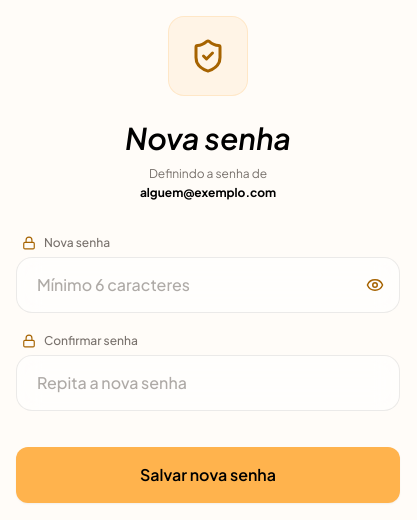
Test: AuthAction › conclui a redefinição com o código do link
The image size is (417, 520).
Expected: the text "alguem@exemplo.com" is shown, [140, 185, 276, 200]
Type "senhanova1" into the password field with placeholder "Mínimo 6 caracteres" at (208, 284), box [16, 256, 400, 312]
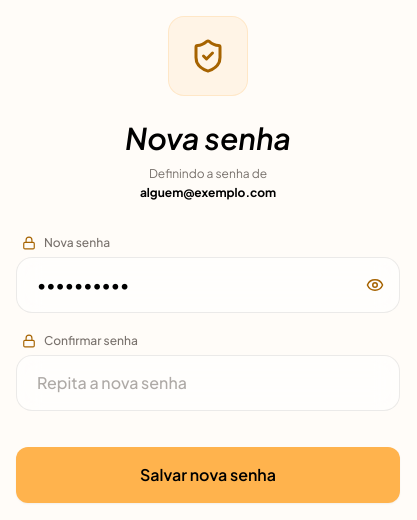
Type "senhanova1" into the password field with placeholder "Repita a nova senha" at (208, 382), box [16, 354, 400, 410]
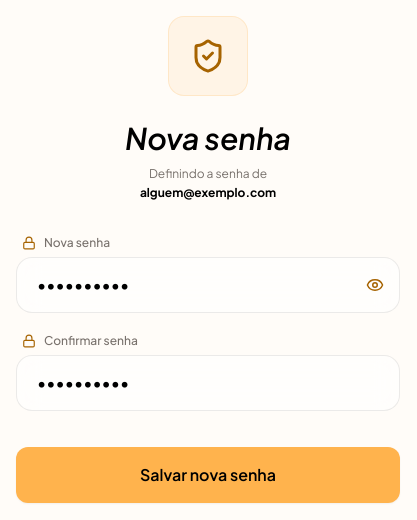
Click the button "Salvar nova senha" at (208, 474), box [16, 446, 400, 502]
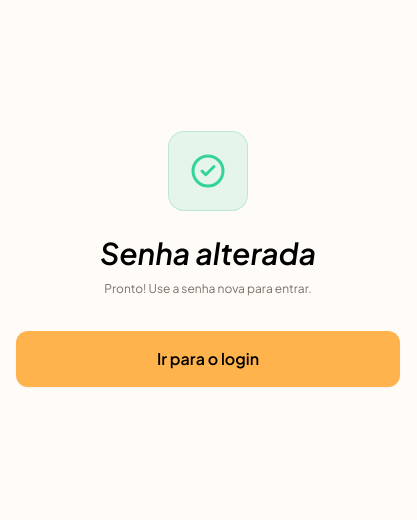
Now the heading "Senha alterada" is shown, box [100, 235, 316, 271]
